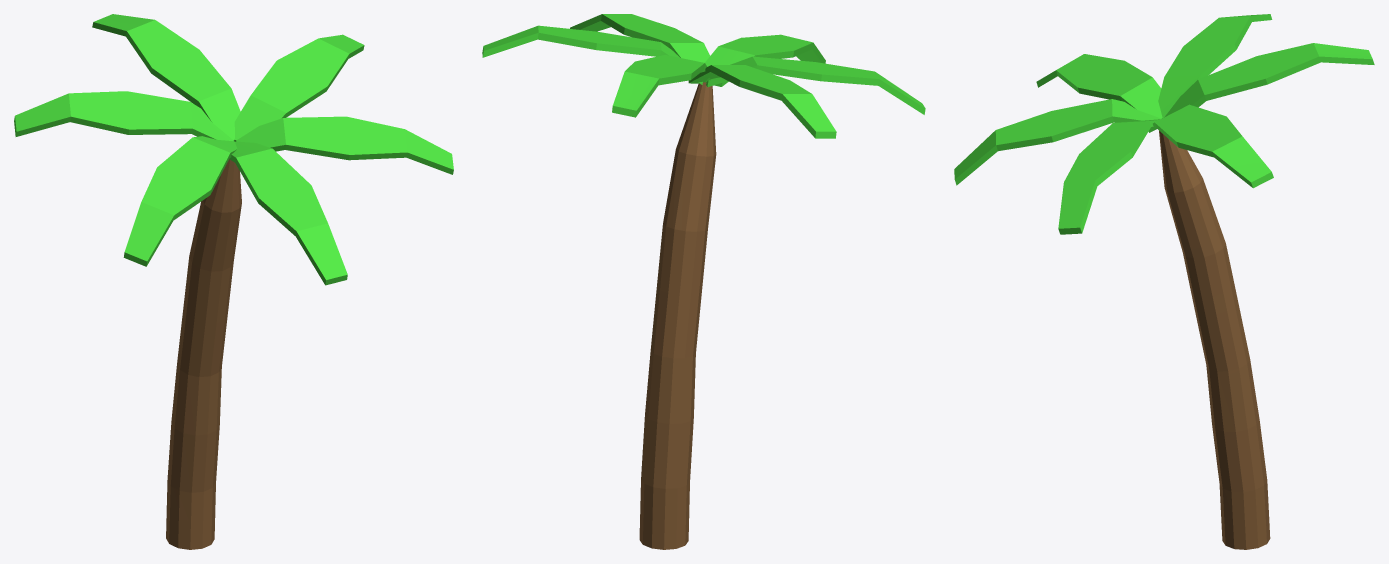
Rendered from palmera.glb.
3 renders of one model, left to right at view 1: azimuth 30°, elevation 25°; view 2: azimuth 150°, elevation 25°; view 3: azimuth 270°, elevation 25°, orthographic. The views are drawn at different scales.
Parts seen in each view (by area): view 1: Palm2.001; view 2: Palm2.001; view 3: Palm2.001.
Boxes of the visible parts, x1,y1,x2,y2 form: Palm2.001: [14, 14, 453, 549]; Palm2.001: [482, 14, 925, 549]; Palm2.001: [954, 14, 1374, 549].
Bounding box in the file's own units: 4.16 × 5.59 × 4.39.
